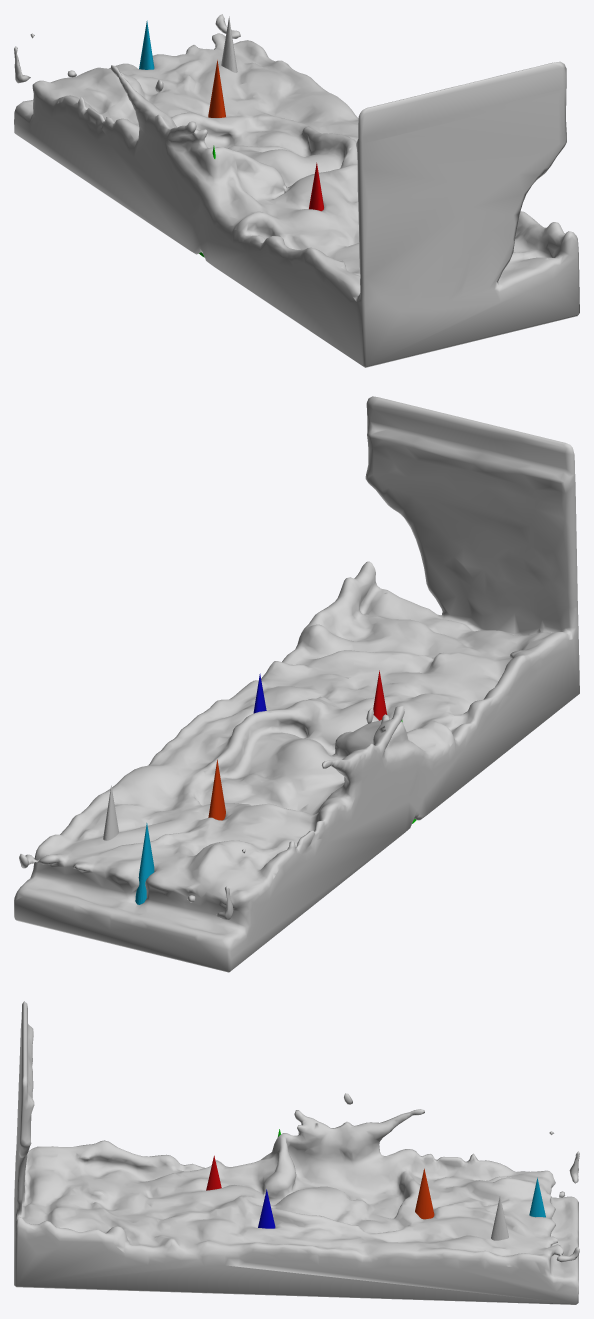
3 renders of one model, top to bottom at view 1: azimuth 30°, elevation 25°; view 2: azimuth 150°, elevation 25°; view 3: azimuth 270°, elevation 25°, orthographic. The views are drawn at different scales.
Parts seen in each view (by area): view 1: Liquid_Domain, 円錐.004, 円錐; view 2: Liquid_Domain, 円錐.005; view 3: Liquid_Domain, 円錐.004, 円錐.
Boxes of the visible parts, <box> form: Liquid_Domain: <box>14,14,579,367</box>; 円錐.004: <box>208,60,225,117</box>; 円錐: <box>221,16,237,72</box>; Liquid_Domain: <box>14,396,579,972</box>; 円錐.005: <box>135,823,154,904</box>; Liquid_Domain: <box>14,1001,579,1304</box>; 円錐.004: <box>415,1168,434,1219</box>; 円錐: <box>491,1196,508,1240</box>.
Size of the model in its own units: 129 by 158 by 362.
